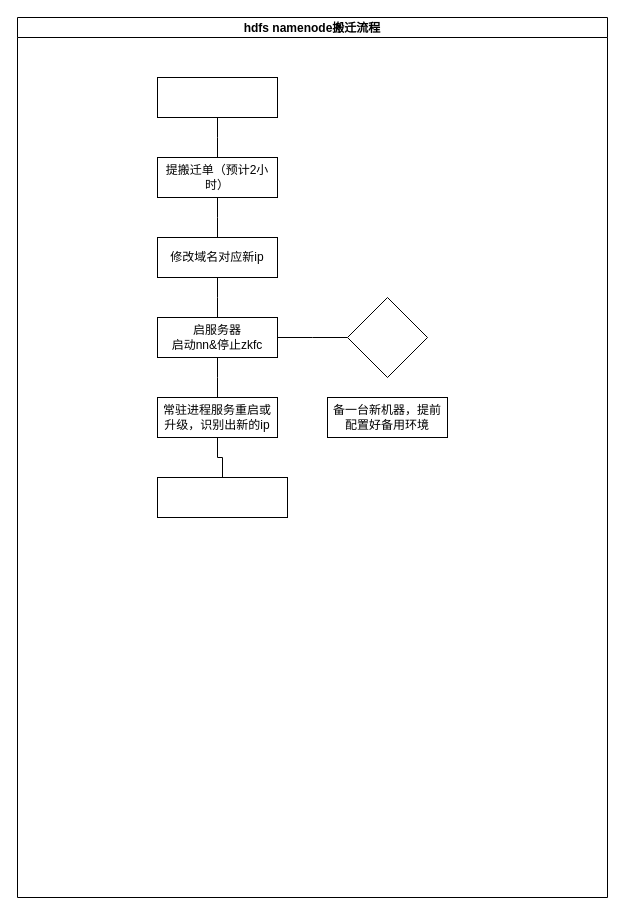
This 625x915 diagram has some shape labels left out. The centre of each missing label's shape, as x and y in pixels:
"20240904（周三） 停nn备服务" goes at [217,97].
"20240911（周三） 常驻进程 升级或重启完" goes at [222,497].
"故障" goes at [387,337].
